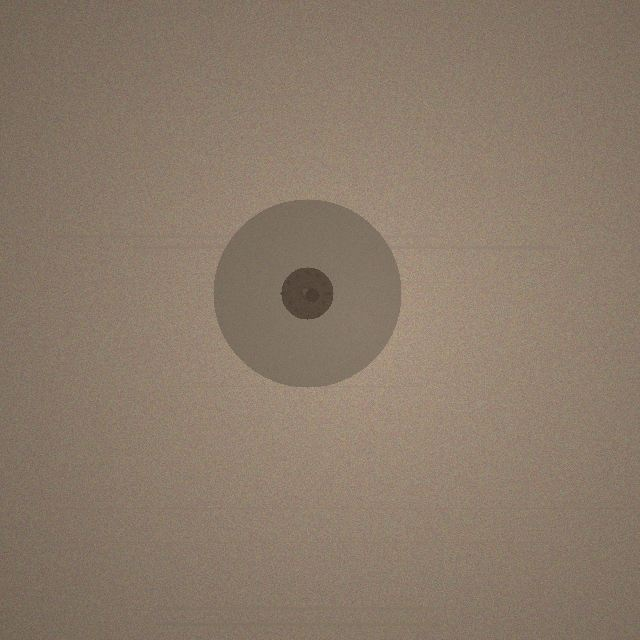cold_weld: (213, 199, 401, 387)
